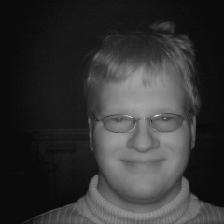happy: (68, 18, 210, 205)
